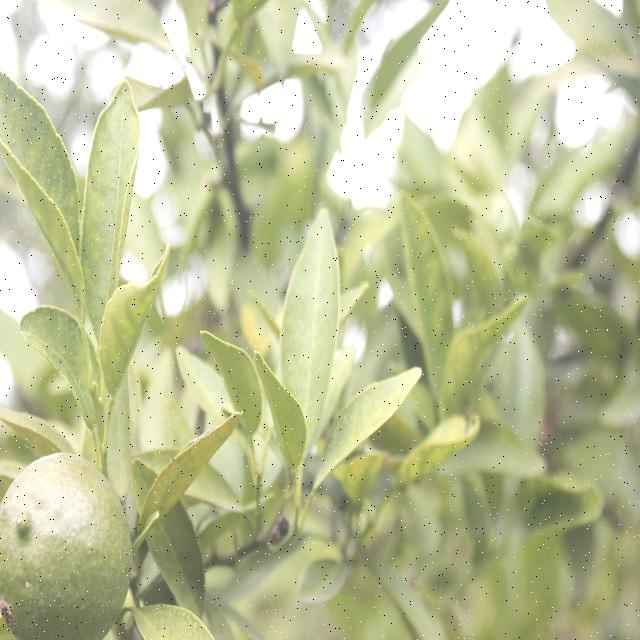healthy: (308, 365, 426, 508), (276, 210, 342, 458), (1, 69, 76, 279), (79, 82, 142, 325), (136, 414, 237, 536), (29, 306, 100, 435)
